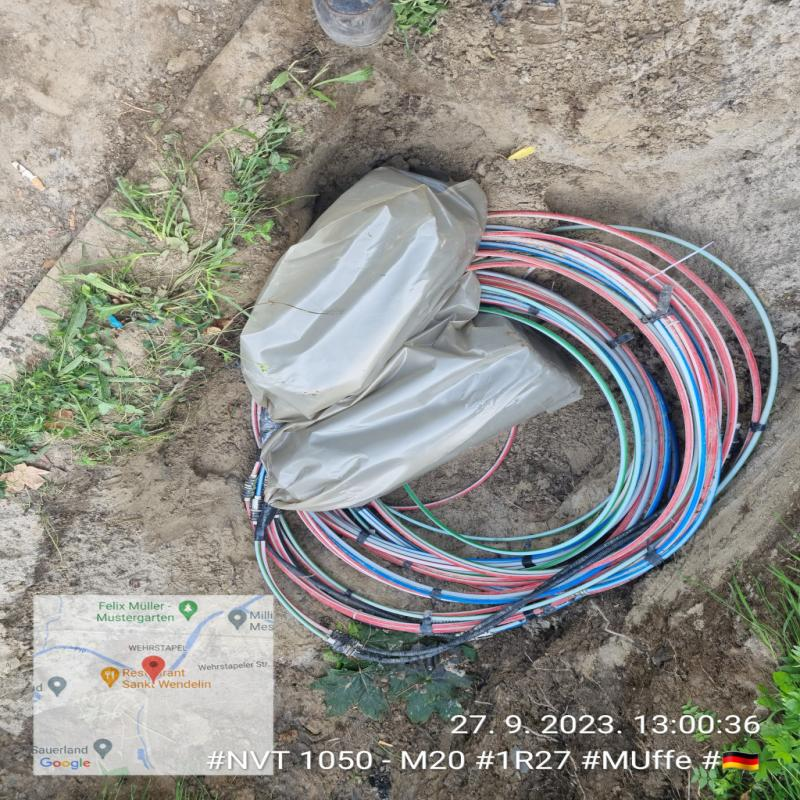NT-Muffen: (252, 314, 583, 515), (235, 168, 488, 420)
